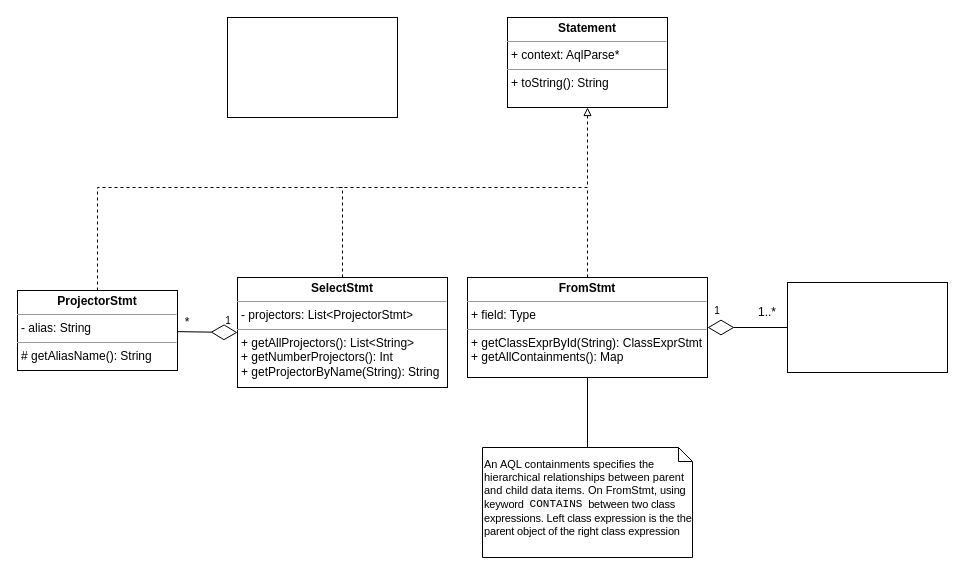
Image size: 965x575. Some labels were removed from this diagram. The centre of each missing label's shape, as x and y in pixels:
ClassExprStmt - id: String # getId(): String + getPredicateType(): String: [867,327]
Query + field: Type + getSelectStmt(): SelectStmt + getFromStmt(): FromStmt: [312,67]
